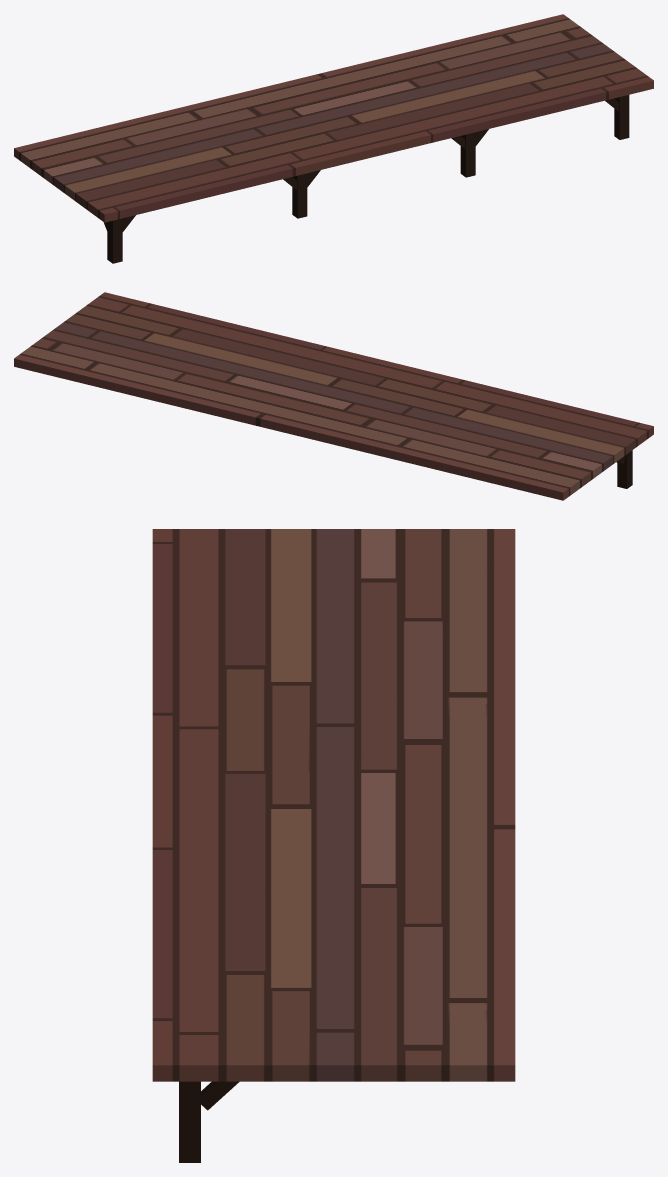
File: Deck 7M v01.glb
3 views of the same model, one above another, from view 1: azimuth 30°, elevation 25°; view 2: azimuth 150°, elevation 25°; view 3: azimuth 270°, elevation 25° (orthographic). The views are drawn at different scales.
Parts seen in each view (by area): view 1: Deck 7M v01; view 2: Deck 7M v01; view 3: Deck 7M v01.
Boxes of the visible parts, left/top/right/bottom form: Deck 7M v01: left=14, top=14, right=653, bottom=263; Deck 7M v01: left=14, top=292, right=653, bottom=500; Deck 7M v01: left=152, top=529, right=515, bottom=1162.
Size of what is drawn, in the model's own units: 7 by 0.7025 by 2.
2 materials, 2 textured.
